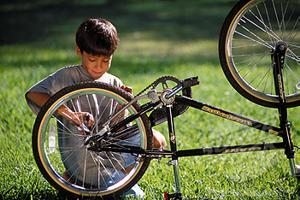person: (24, 17, 168, 196)
